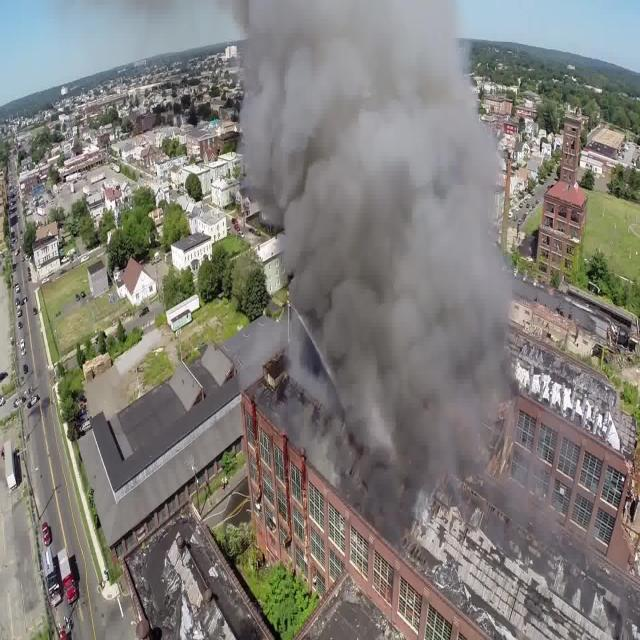Smoke: (230, 2, 522, 467)
